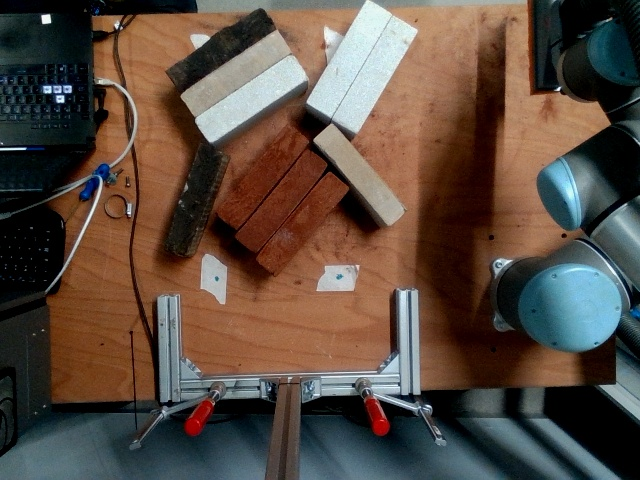brick-side: (255, 170, 348, 274), (194, 54, 305, 141), (335, 15, 417, 131), (179, 30, 289, 115), (307, 0, 389, 114), (236, 149, 327, 250), (218, 126, 307, 228), (316, 123, 404, 221), (167, 9, 273, 90), (162, 146, 216, 257)
